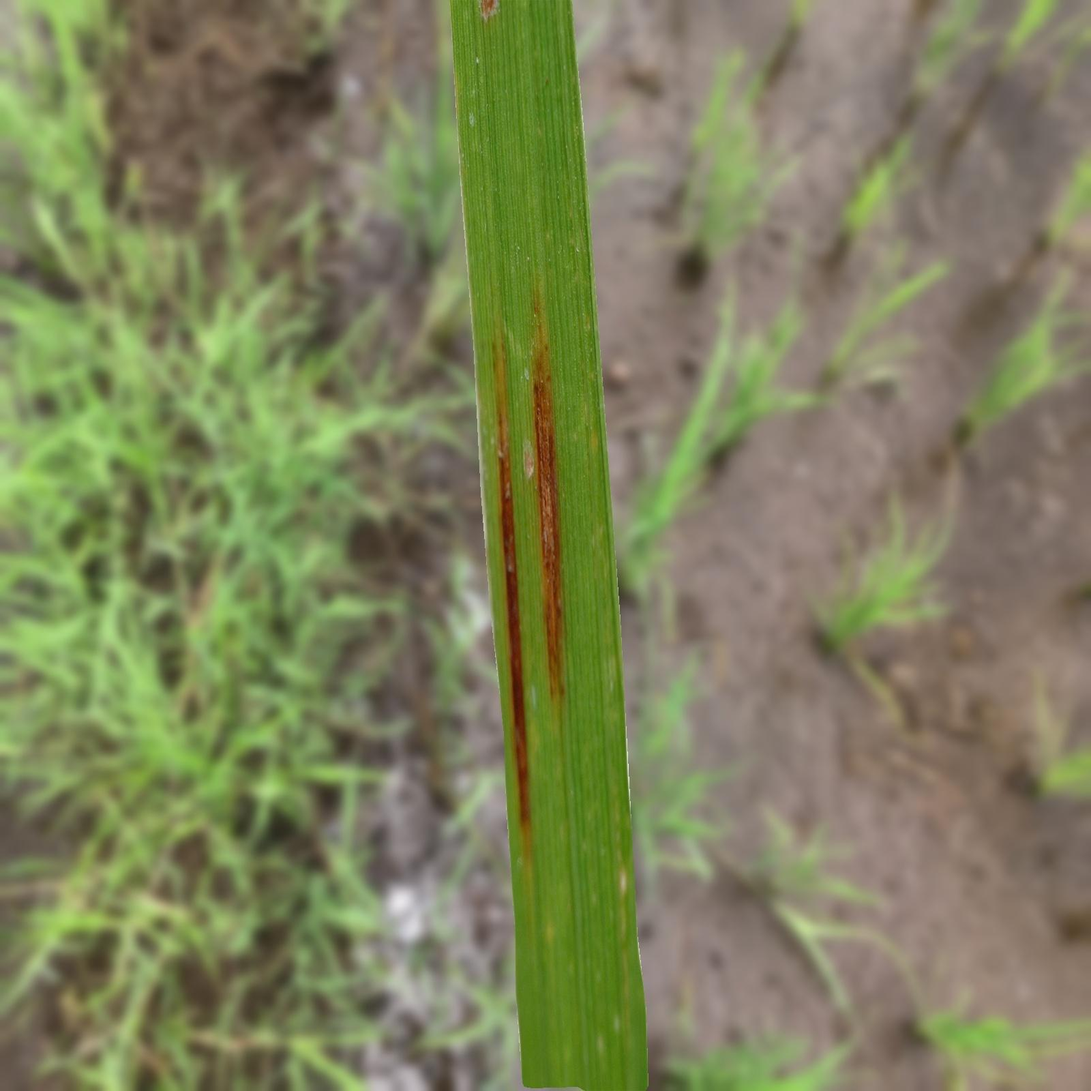LEAF: (449, 0, 648, 1090)
NBS: (498, 340, 530, 852), (533, 294, 563, 698), (478, 0, 501, 24)
